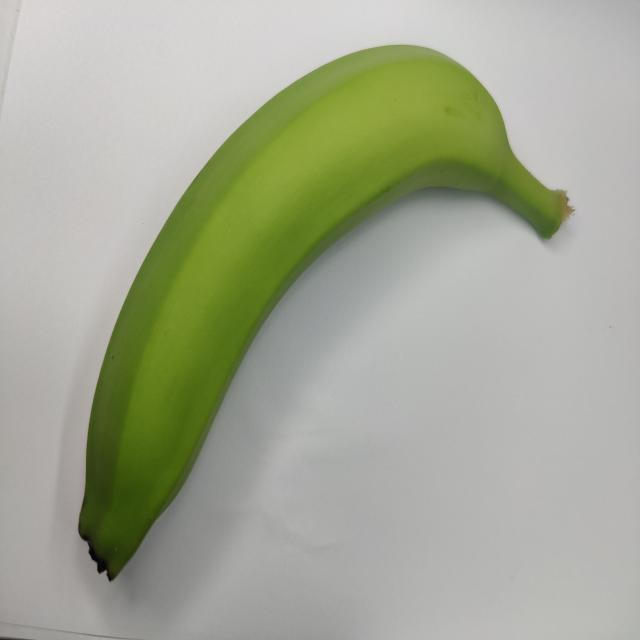raw: (64, 37, 586, 590)
